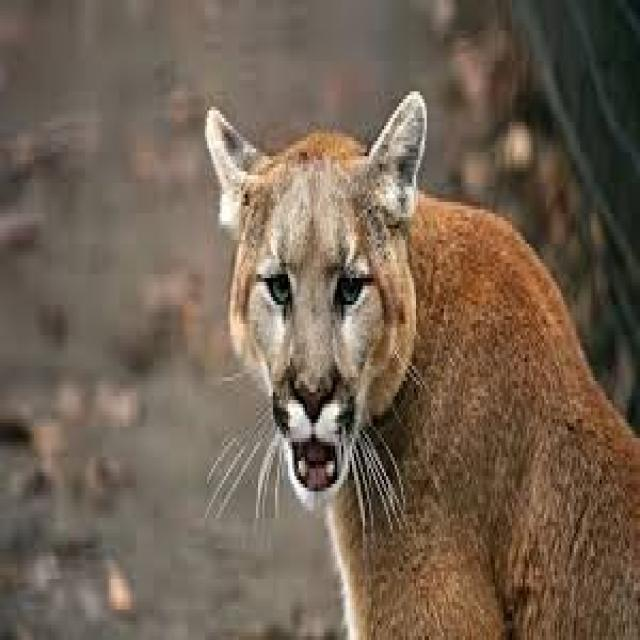Lion: (204, 91, 638, 636)
